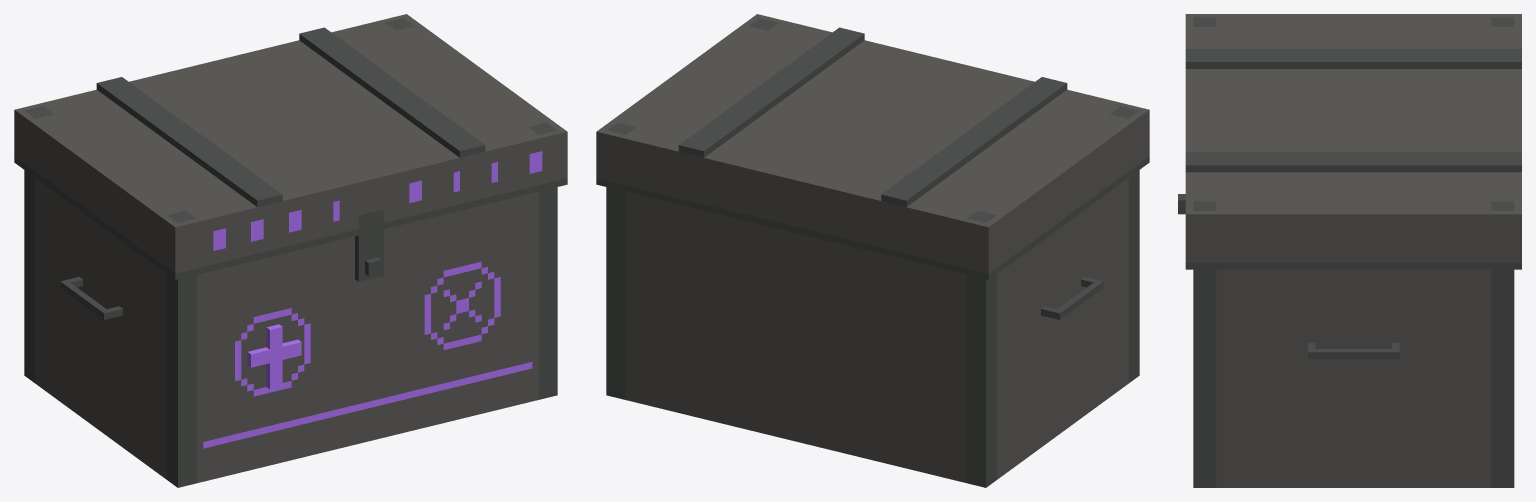
Rendered from rune_iron_preservation_chest.glb.
3 views of the same model, side by side, from view 1: azimuth 30°, elevation 25°; view 2: azimuth 150°, elevation 25°; view 3: azimuth 270°, elevation 25° (orthographic). The views are drawn at different scales.
Visible parts, largest first — view 1: rune_iron_preservation_chest:compound; view 2: rune_iron_preservation_chest:compound; view 3: rune_iron_preservation_chest:compound.
Boxes of the visible parts, bbox=[...] form: rune_iron_preservation_chest:compound: bbox=[14, 14, 567, 487]; rune_iron_preservation_chest:compound: bbox=[596, 14, 1149, 487]; rune_iron_preservation_chest:compound: bbox=[1178, 14, 1521, 487].
Size of the model in its own units: 0.66 by 0.41 by 0.45.
